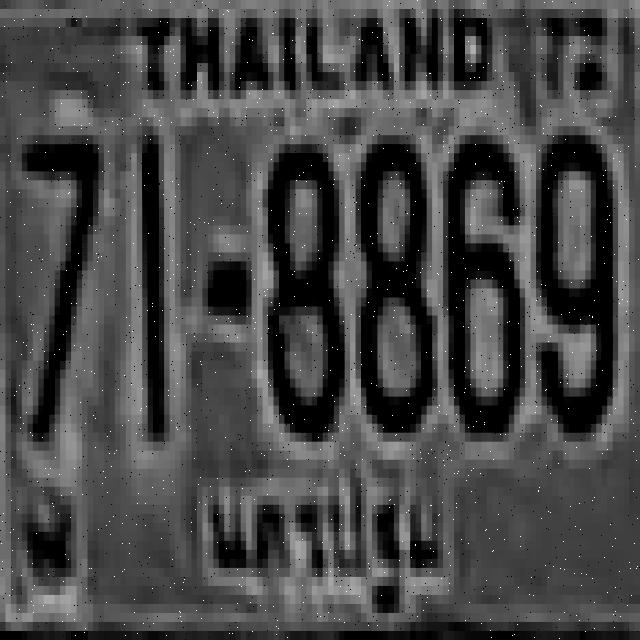1: (136, 131, 164, 437)
6: (444, 126, 520, 424)
7: (20, 126, 96, 432)
8: (263, 135, 339, 433), (353, 126, 429, 424)
9: (530, 126, 612, 424)
NakhonPathom: (193, 444, 447, 624)
